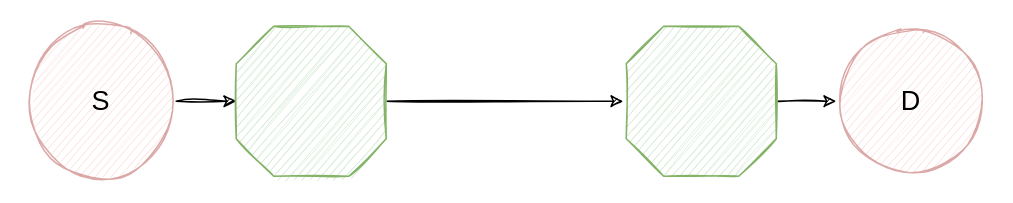
Some shapes in this 1013 by 203 pixel diagram are drawn without their labels. Here are the shapes that lost their labels. From the top down, the centre of each, then its label:
At pixel 310 100: "Ts".
At pixel 700 100: "Td".
